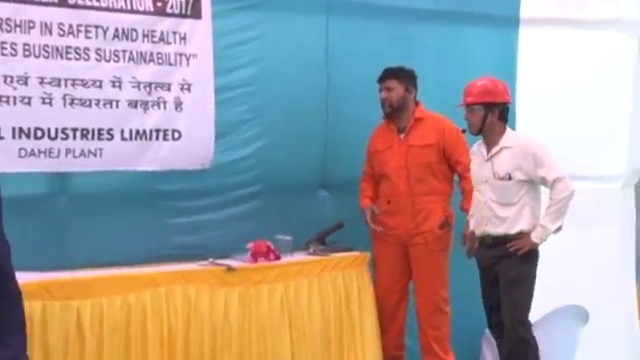helmet: (454, 76, 513, 110)
helmet_off: (375, 67, 421, 123)
helmet_on: (454, 75, 513, 142)
person: (453, 74, 576, 360), (361, 67, 474, 360)
